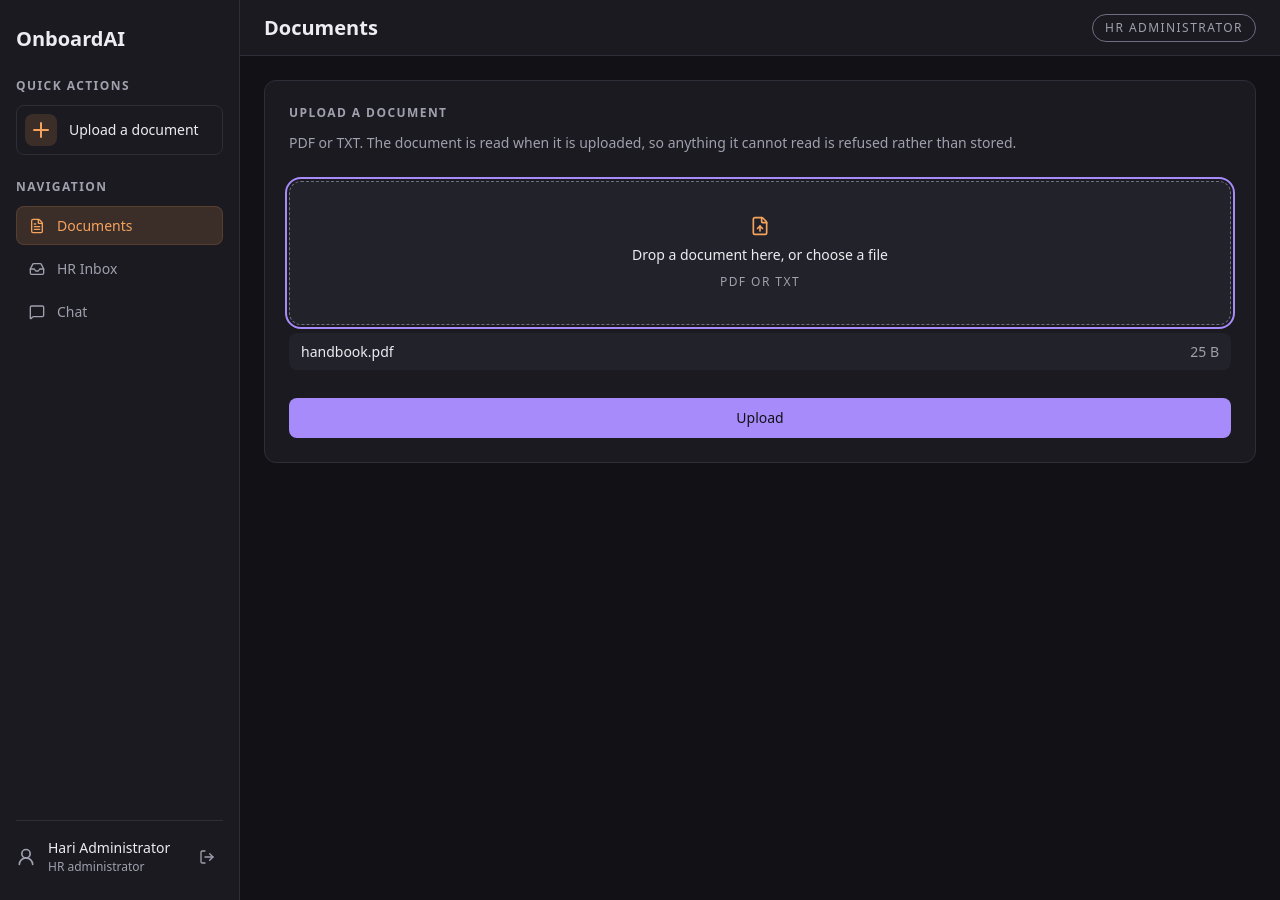
Test: while it is uploading › shows how far the file has got
Earlier steps of the test are not shown.
What coordinates should you click on to do the following:
click the button "Upload"
I would click on:
 (760, 418)
Its box is [289,398,1231,438].
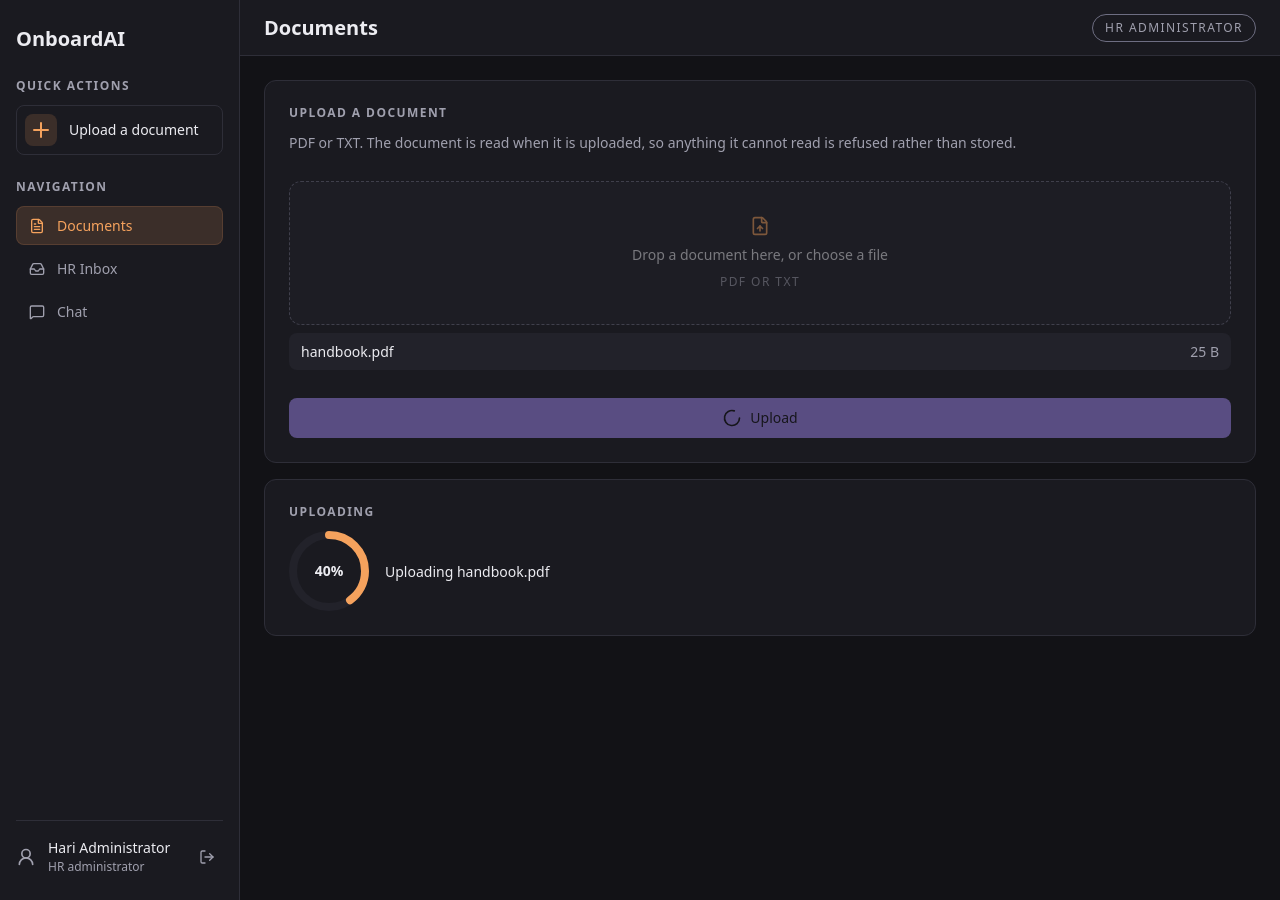
Expected: the picture named "Uploaded: 40%" is shown, [289,531,369,611]
